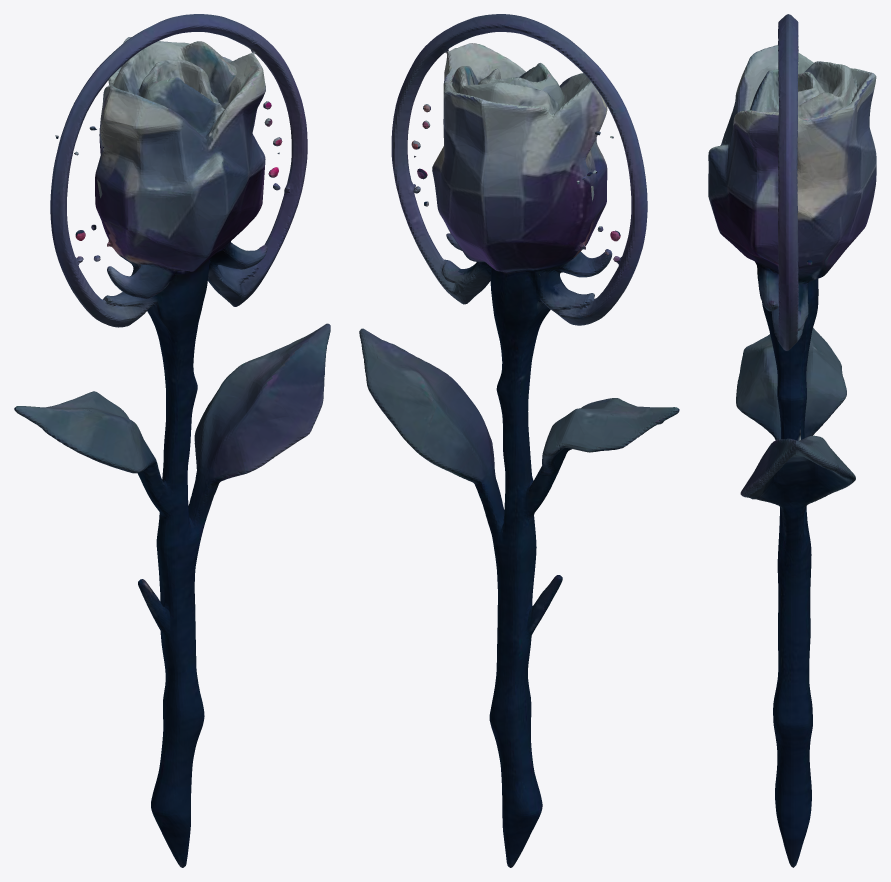
File: PETRIFIED-ROSE.glb
The picture shows the model from 3 angles, left to right: view 1: azimuth 30°, elevation 25°; view 2: azimuth 150°, elevation 25°; view 3: azimuth 270°, elevation 25°; orthographic projection. The views are drawn at different scales.
Parts seen in each view (by area): view 1: PETRIFIED-ROSE; view 2: PETRIFIED-ROSE; view 3: PETRIFIED-ROSE.
Part boxes in pixels (x1,y1,x2,y2): PETRIFIED-ROSE: (14, 14, 330, 867); PETRIFIED-ROSE: (359, 14, 679, 867); PETRIFIED-ROSE: (708, 14, 876, 867).
Size of the model in its own units: 0.7754 by 1.99 by 0.3627.
Materials: 1 (1 with a texture image).
